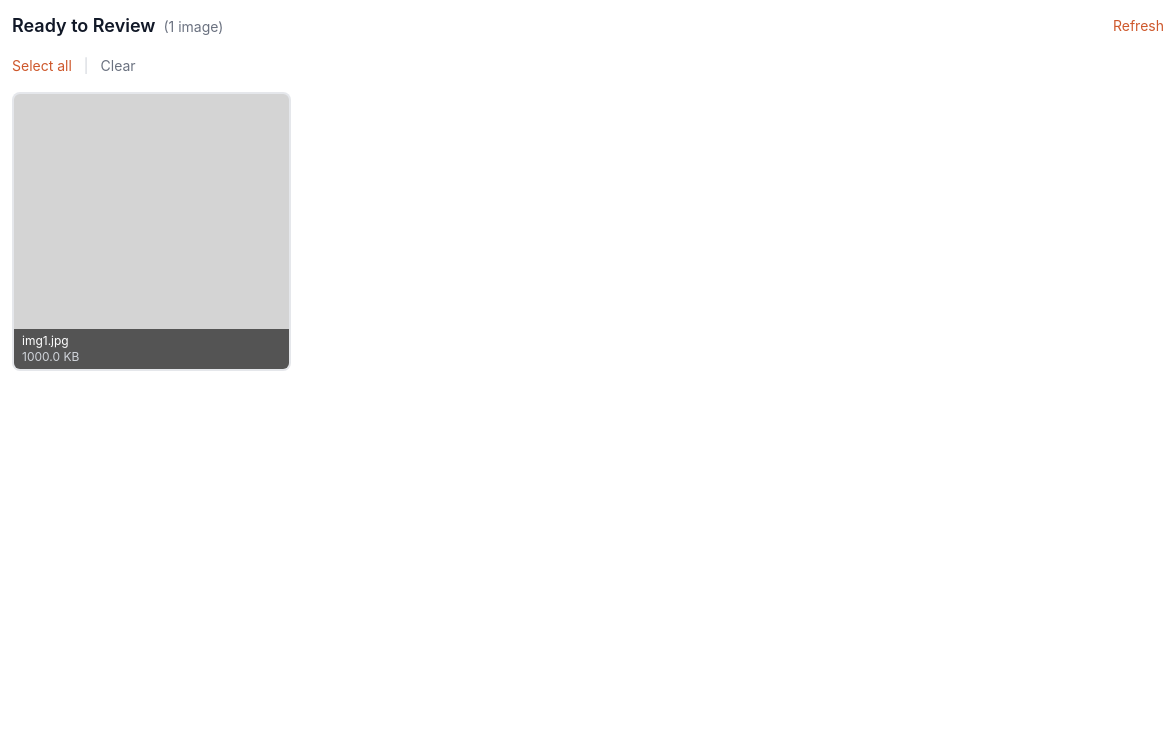
Test case: ReadyQueue › gallery picker › opens and closes gallery picker
Click the button "Select all" at (42, 66), box [12,56,72,76]
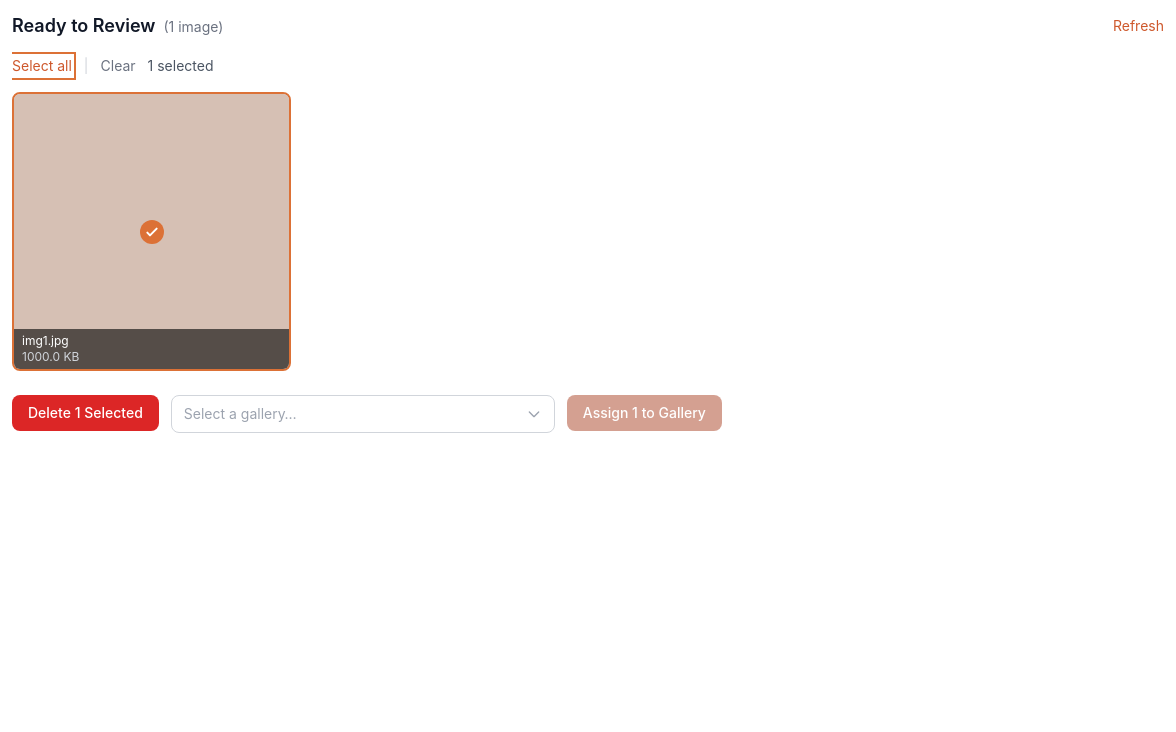
Expected: the button "Select a gallery…" is shown
Click the button "Select a gallery…" at (240, 414), box [171,395,555,433]
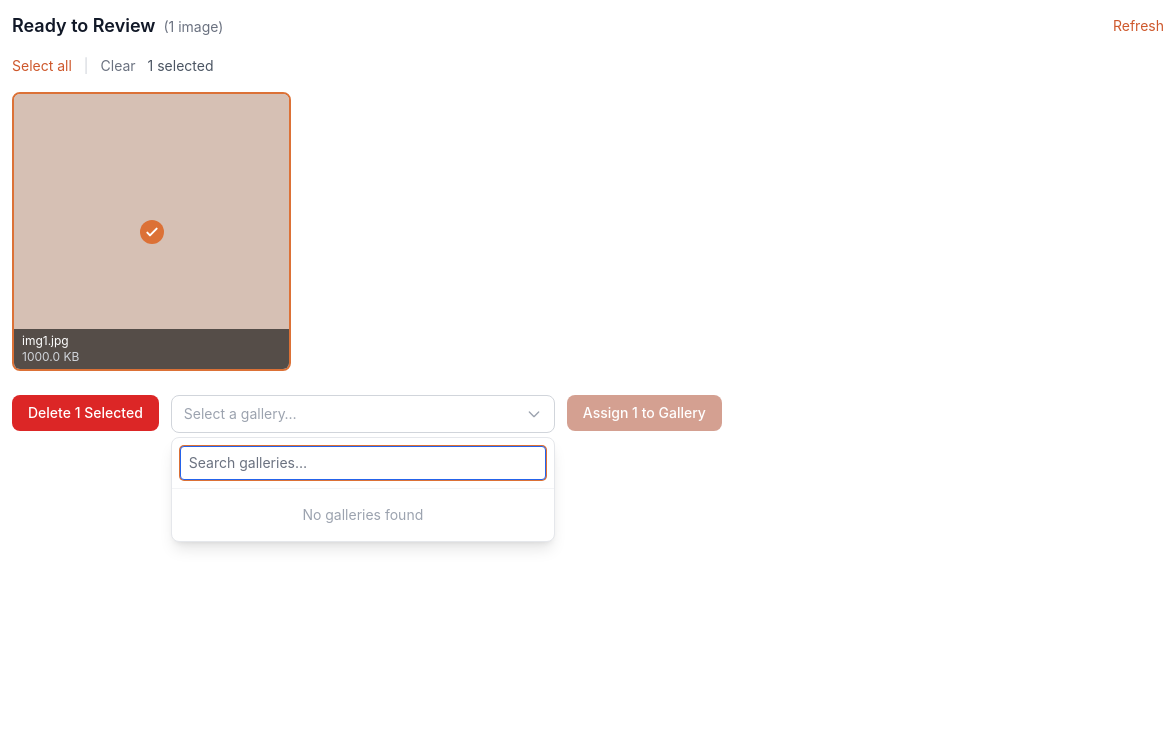
Expected: the field with placeholder "Search galleries…" is shown, [180,446,546,480]
